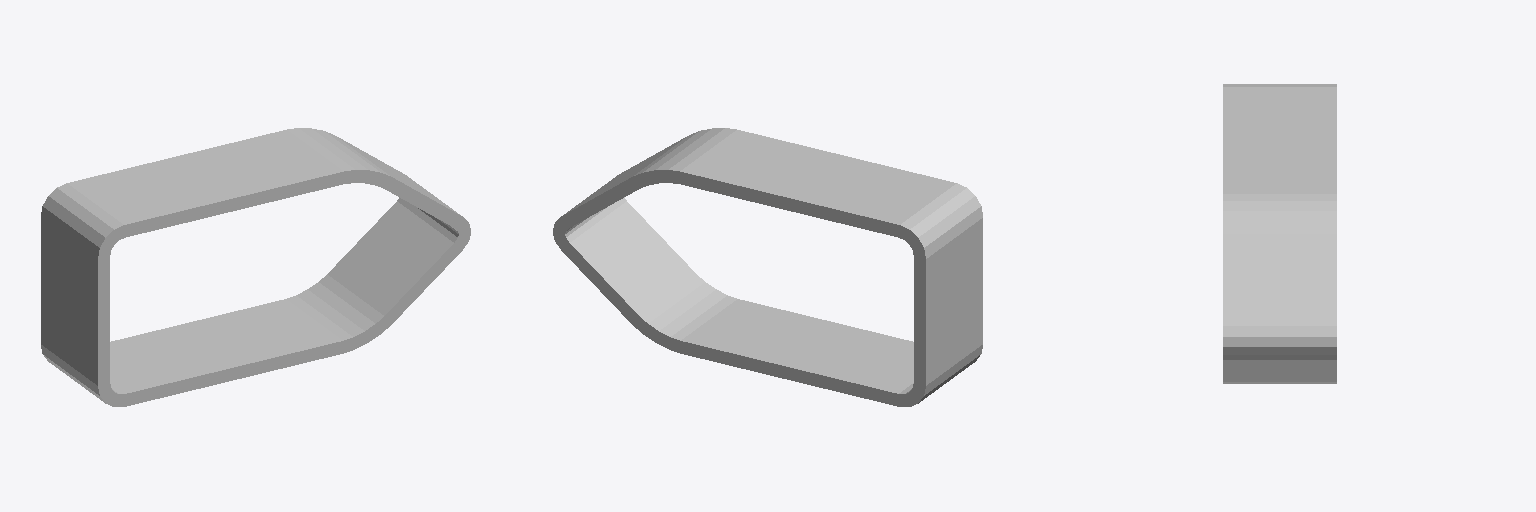
File: Arrow_11.obj
The picture shows the model from 3 angles: view 1: azimuth 30°, elevation 25°; view 2: azimuth 150°, elevation 25°; view 3: azimuth 270°, elevation 25°; orthographic projection.
Parts seen in each view (by area): view 1: Arrow_11; view 2: Arrow_11; view 3: Arrow_11.
Part boxes in pixels (left/top/right/bottom): Arrow_11: left=41, top=128, right=470, bottom=406; Arrow_11: left=553, top=128, right=982, bottom=406; Arrow_11: left=1223, top=84, right=1336, bottom=383.
Bounding box in the file's own units: 2.74 × 1.28 × 0.728.